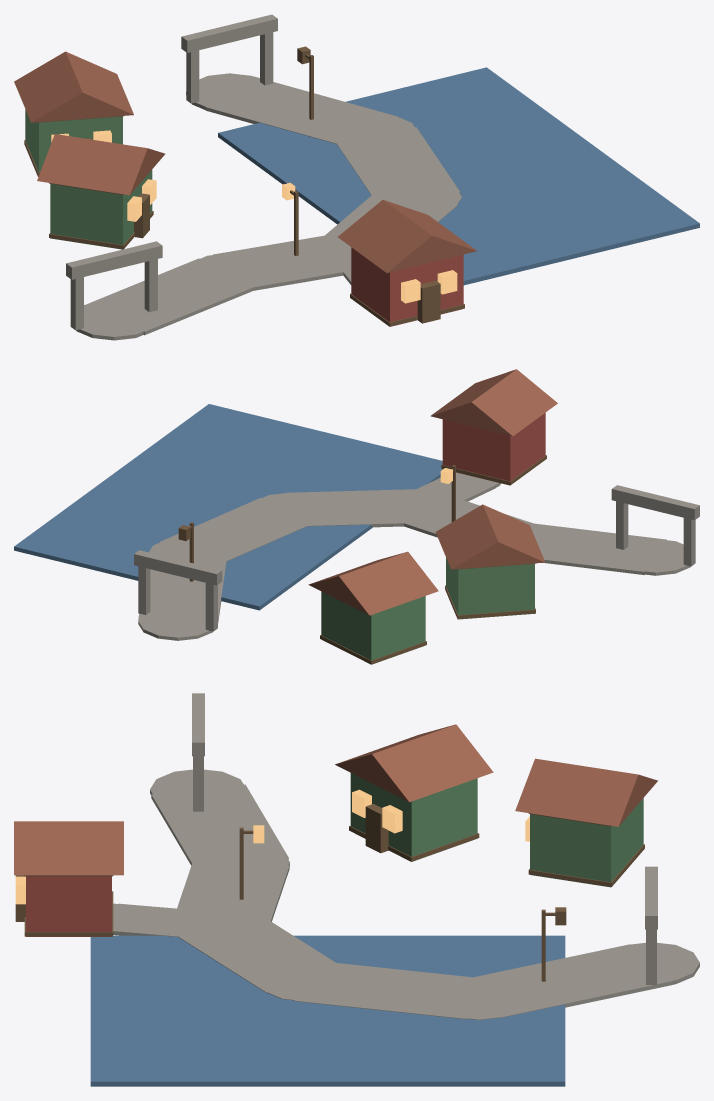
3 views of the same model, one above another, from view 1: azimuth 30°, elevation 25°; view 2: azimuth 150°, elevation 25°; view 3: azimuth 270°, elevation 25° (orthographic). The views are drawn at different scales.
Parts seen in each view (by area): view 1: pond, cot_roof.022, cot_roof.030, walk_seg.024, cot_roof.021, walk_seg.023, walk_seg.020, cot_body.021, cot_body.030, walk_seg.021, walk_node.030, walk_node.026 (+13 smaller); view 2: pond, cot_roof.021, walk_seg.023, cot_body.022, cot_body.030, cot_roof.030, cot_roof.022, cot_body.021, walk_seg.022, walk_seg.020, walk_seg.024, walk_node.031 (+13 smaller); view 3: pond, cot_roof.021, walk_seg.023, cot_roof.022, cot_body.022, cot_roof.030, cot_body.021, walk_seg.024, walk_seg.021, walk_seg.020, walk_seg.022, cot_body.030 (+13 smaller).
Boxes of the visible parts, x1,y1,x2,y2 form: pond: [218, 67, 699, 285]; cot_roof.022: [14, 51, 133, 122]; cot_roof.030: [338, 200, 476, 272]; walk_seg.024: [205, 76, 397, 143]; cot_roof.021: [37, 134, 165, 195]; walk_seg.023: [333, 127, 459, 195]; walk_seg.020: [84, 258, 258, 335]; cot_body.021: [50, 169, 152, 249]; cot_body.030: [351, 247, 463, 326]; walk_seg.021: [213, 235, 343, 290]; walk_node.030: [331, 113, 417, 150]; walk_node.026: [76, 300, 157, 340]; pond: [14, 404, 442, 610]; cot_roof.021: [435, 504, 545, 569]; walk_seg.023: [159, 498, 317, 565]; cot_body.022: [321, 591, 425, 664]; cot_body.030: [442, 413, 545, 485]; cot_roof.030: [430, 369, 557, 436]; cot_roof.022: [308, 551, 438, 615]; cot_body.021: [446, 557, 534, 619]; walk_seg.022: [287, 489, 413, 527]; walk_seg.020: [532, 523, 666, 574]; walk_seg.024: [138, 553, 226, 622]; walk_node.031: [138, 604, 212, 640]; pond: [90, 935, 565, 1086]; cot_roof.021: [335, 724, 493, 802]; walk_seg.023: [294, 962, 490, 1019]; cot_roof.022: [515, 758, 657, 826]; cot_body.022: [530, 798, 643, 887]; cot_roof.030: [14, 821, 123, 875]; cot_body.021: [350, 773, 477, 861]; walk_seg.024: [474, 944, 673, 1017]; walk_seg.021: [172, 860, 289, 928]; walk_seg.020: [151, 784, 288, 867]; walk_seg.022: [180, 915, 341, 992]; cot_body.030: [26, 876, 111, 936].
Size of the model in its own units: 34.7 by 5.18 by 31.8.
